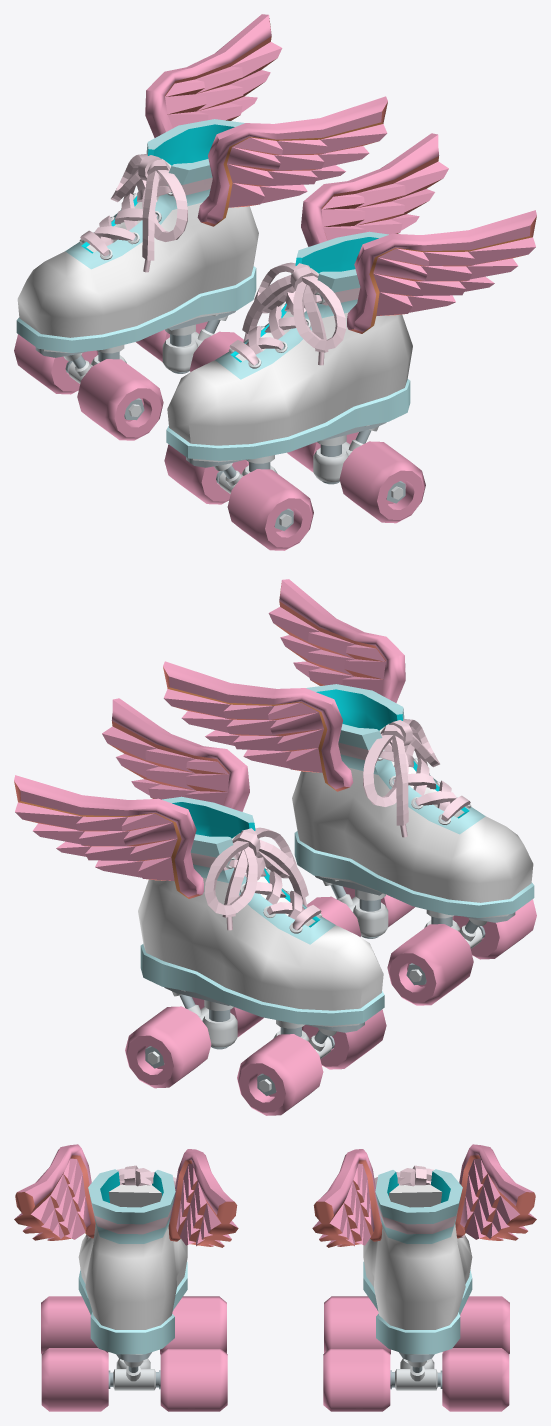
The model's file is Skates.fbx.
3 renders of one model, top to bottom at view 1: azimuth 30°, elevation 25°; view 2: azimuth 150°, elevation 25°; view 3: azimuth 270°, elevation 25°, orthographic. The views are drawn at different scales.
Parts seen in each view (by area): view 1: Shoe (×2), Feather_1 (×2), Feather_2 (×2), Tyre2 (×2), Tyre1 (×2), Tyre4, Tyre3; view 2: Shoe (×2), Feather_1 (×2), Feather_2 (×2), Tyre2 (×2), Tyre1 (×2), Tyre4, Tyre3; view 3: Shoe (×2), Feather_2 (×2), Feather_1 (×2), Tyre3 (×2), Tyre4 (×2), Tyre2 (×2), Tyre1 (×2).
Boxes of the visible parts, x1=… form: Shoe (×2): x1=16, y1=119, x2=412, y2=530; Feather_1 (×2): x1=197, y1=96, x2=448, y2=246; Feather_2 (×2): x1=145, y1=14, x2=536, y2=333; Tyre2 (×2): x1=77, y1=359, x2=248, y2=504; Tyre1 (×2): x1=14, y1=334, x2=313, y2=550; Tyre4: x1=339, y1=441, x2=425, y2=523; Tyre3: x1=189, y1=331, x2=243, y2=371; Shoe (×2): x1=138, y1=684, x2=534, y2=1095; Feather_1 (×2): x1=102, y1=661, x2=353, y2=811; Feather_2 (×2): x1=14, y1=579, x2=405, y2=898; Tyre2 (×2): x1=302, y1=924, x2=473, y2=1069; Tyre1 (×2): x1=237, y1=899, x2=536, y2=1115; Tyre4: x1=125, y1=1006, x2=211, y2=1088; Tyre3: x1=307, y1=896, x2=361, y2=936; Shoe (×2): x1=78, y1=1165, x2=472, y2=1390; Feather_2 (×2): x1=14, y1=1144, x2=536, y2=1240; Feather_1 (×2): x1=168, y1=1149, x2=382, y2=1247; Tyre3 (×2): x1=160, y1=1348, x2=390, y2=1411; Tyre4 (×2): x1=41, y1=1348, x2=509, y2=1411; Tyre2 (×2): x1=160, y1=1296, x2=390, y2=1354; Tyre1 (×2): x1=41, y1=1296, x2=509, y2=1353.
Size of the model in its own units: 223 by 199 by 343.
